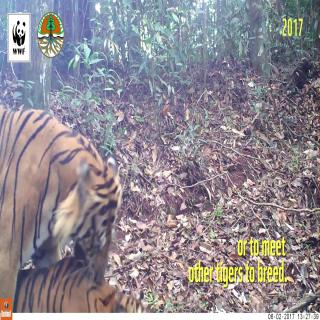Tiger: (0, 82, 142, 313)
